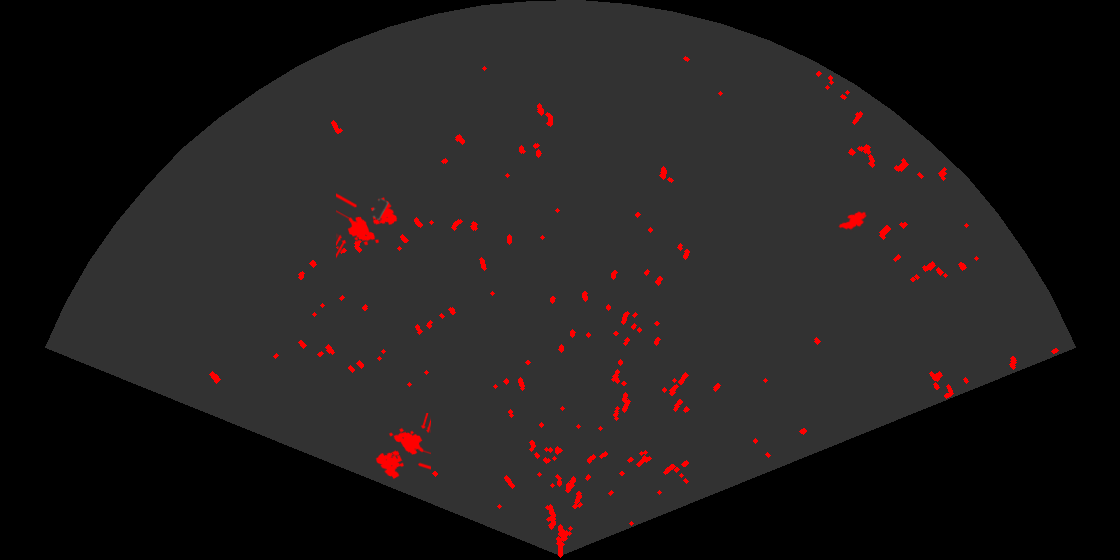AUV: (837, 210, 868, 232)
cage: (336, 192, 399, 260), (374, 413, 431, 481)
